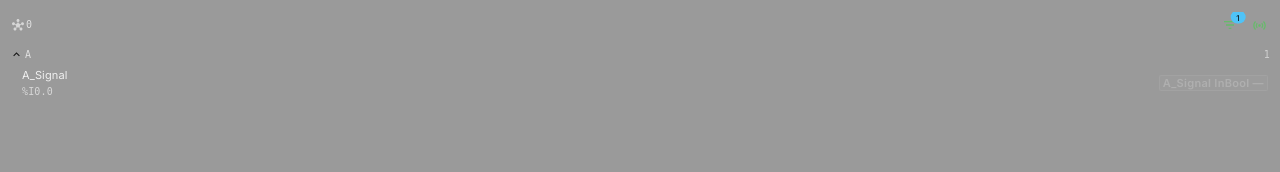
Test: SignalListView topic collapse while filtering › T1 collapses a filter-auto-open topic and shows the closed chevron
Expected: the text "A_Signal" is shown, x1=22 y1=68 x2=68 y2=82
Expected: the icon with test id "ExpandLessIcon" is shown, x1=10 y1=48 x2=23 y2=60
Click the element showing "A 1": x=16, y=54 x1=10 y1=48 x2=1270 y2=60
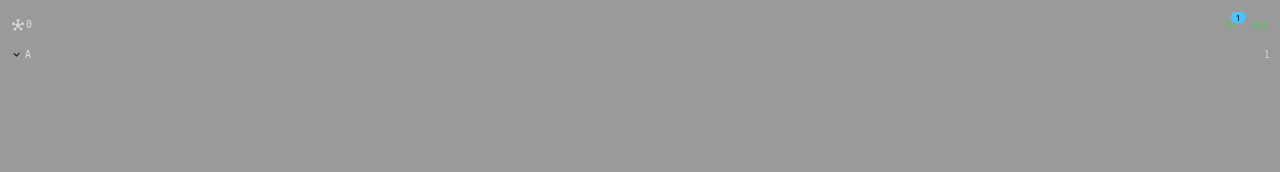
Expected: the text "A_Signal" is gone
Expected: the icon with test id "ExpandMoreIcon" is shown, x1=10 y1=48 x2=23 y2=60
